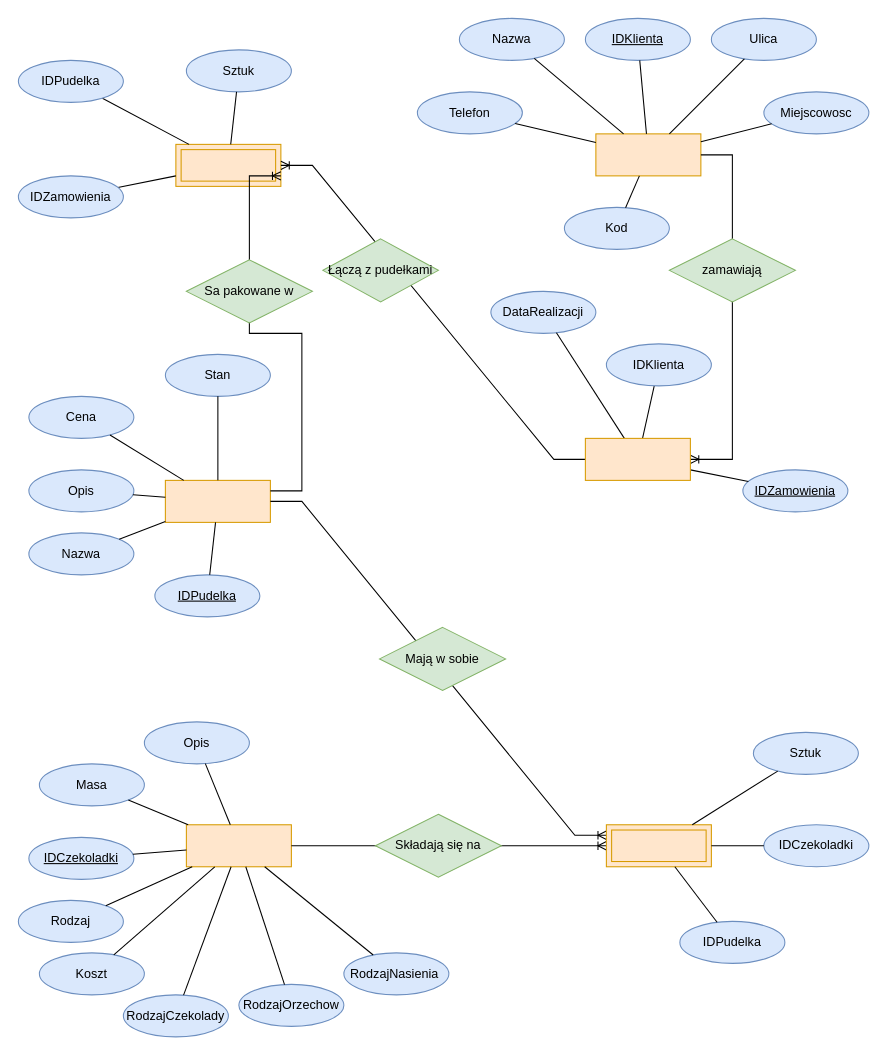
The diagram is 887 pixels wide and 1055 high, and some of its shapes have lost their labels. Each missing label, with the box of its shape:
Artykuly: (175, 143, 281, 186)
Czekoladki: (185, 824, 291, 867)
Klienci: (595, 133, 701, 176)
Pudelka: (164, 479, 270, 522)
Zamowienia: (584, 437, 690, 480)
Zawartosc: (605, 824, 711, 867)
